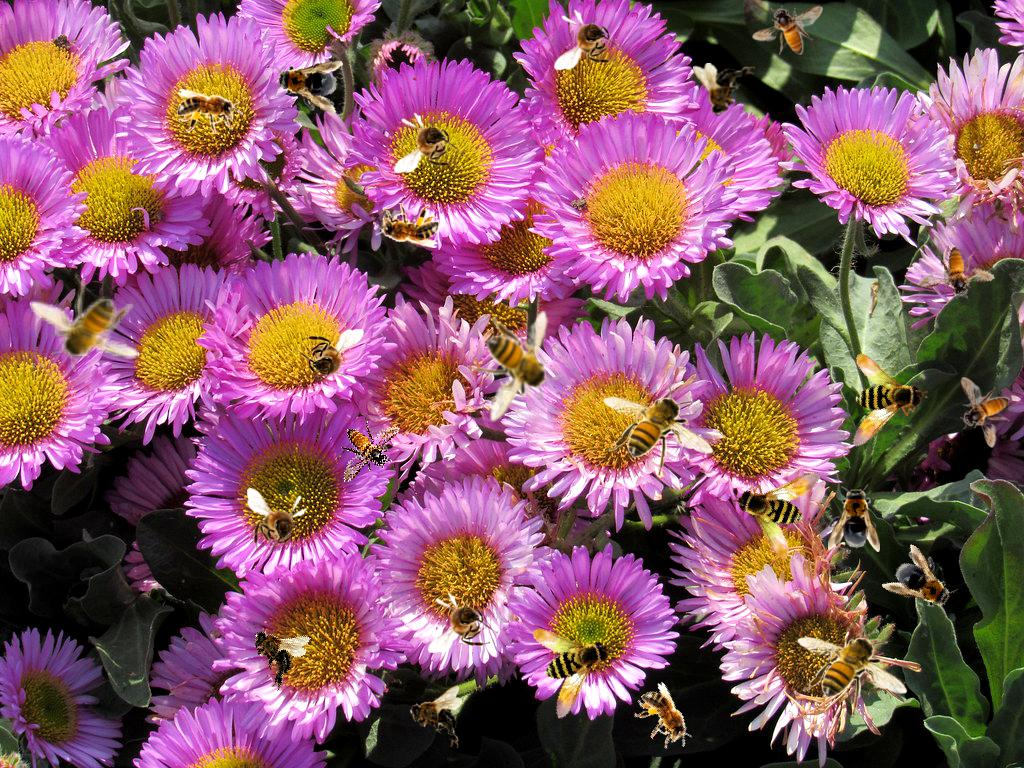Bee: (812, 345, 932, 465), (729, 448, 849, 566), (510, 619, 616, 729), (29, 278, 140, 372), (467, 311, 561, 422), (797, 623, 908, 717), (603, 383, 714, 477), (881, 542, 967, 624), (235, 612, 314, 694), (626, 679, 704, 760), (326, 411, 412, 484), (917, 238, 1001, 309), (270, 54, 344, 114), (247, 488, 308, 558), (428, 592, 498, 653), (294, 329, 364, 390), (394, 112, 464, 173), (554, 9, 624, 70), (960, 377, 1010, 448), (752, 5, 823, 55), (828, 484, 880, 552), (409, 686, 462, 748), (693, 63, 755, 116), (177, 89, 243, 134), (373, 203, 439, 248)
